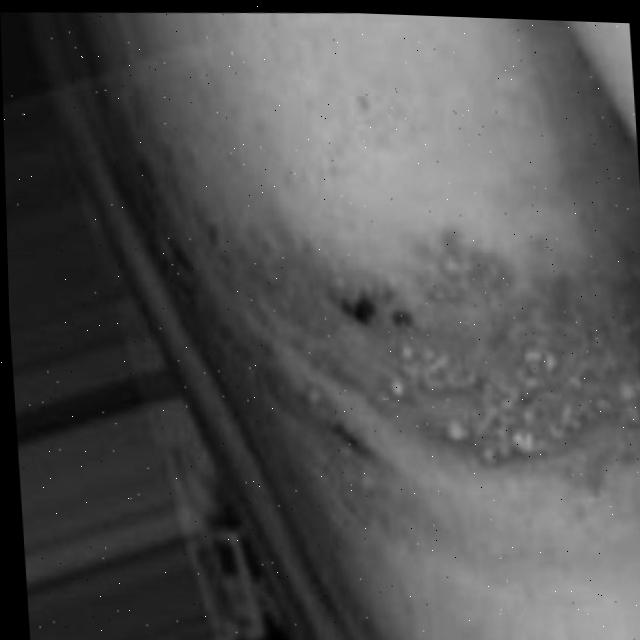Shingles: (333, 219, 640, 481)
